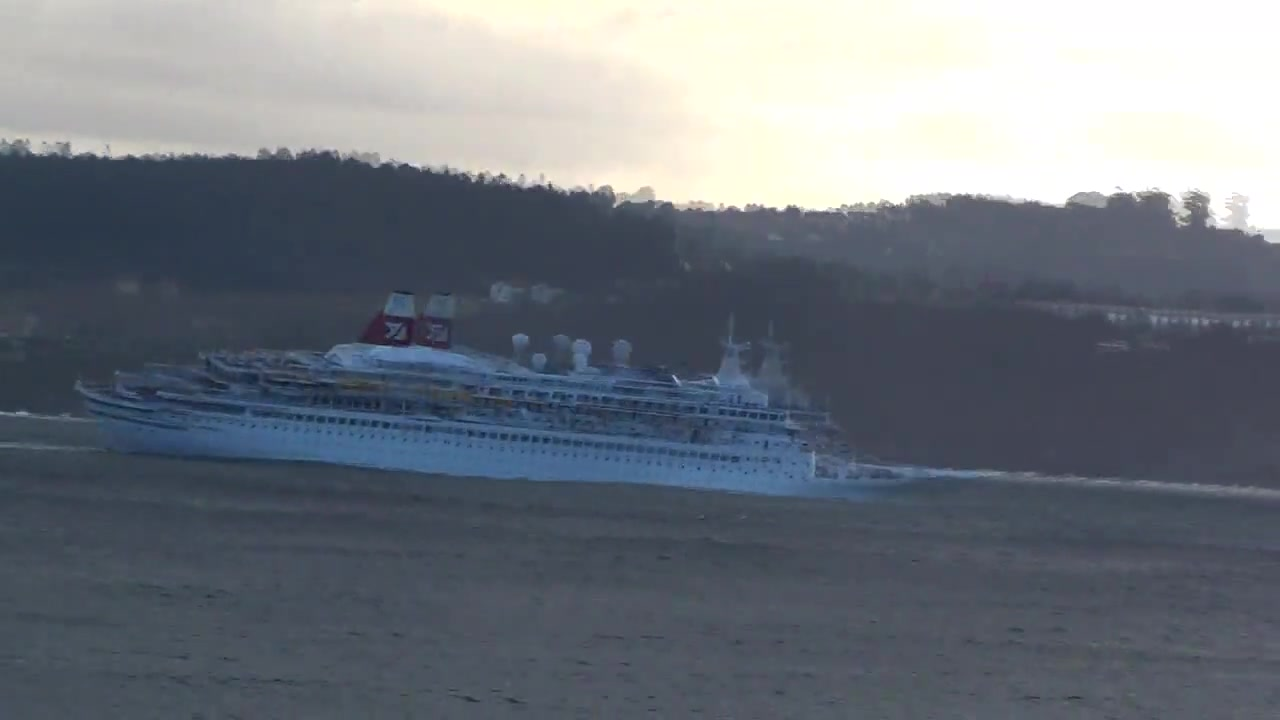boat: (73, 287, 916, 501)
